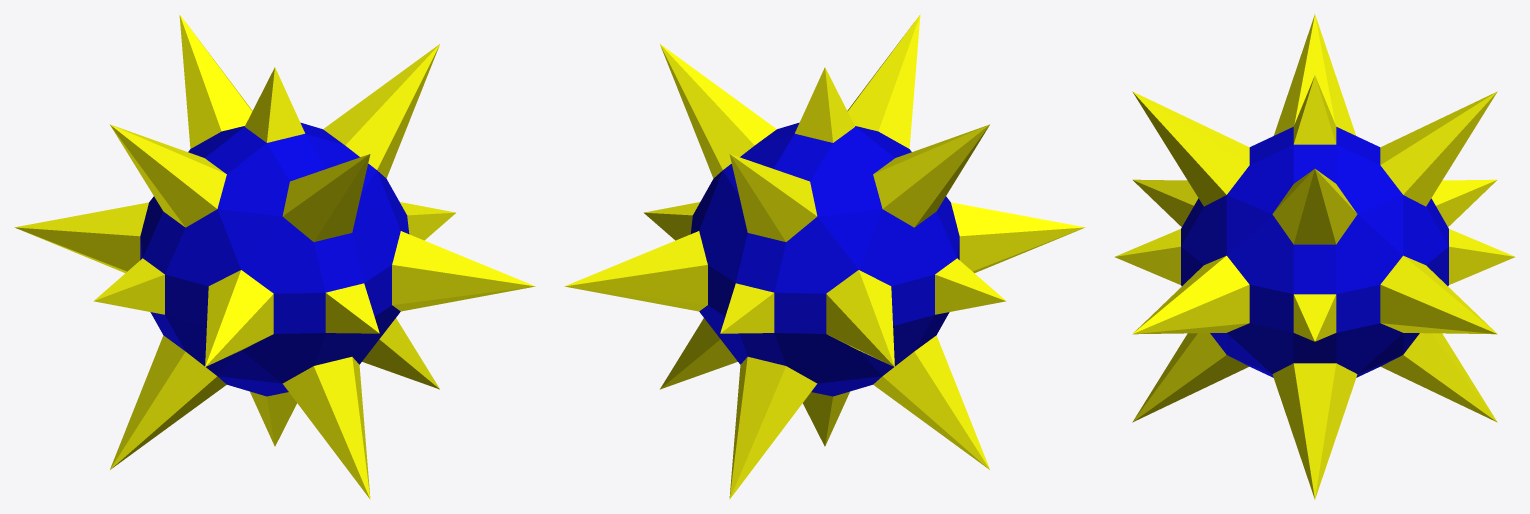
File: SPIKY_BALL.fbx
3 views of the same model, side by side, from view 1: azimuth 30°, elevation 25°; view 2: azimuth 150°, elevation 25°; view 3: azimuth 270°, elevation 25° (orthographic). The views are drawn at different scales.
Visible parts, largest first — view 1: Mesh1; view 2: Mesh1; view 3: Mesh1.
Boxes of the visible parts, x1,y1,x2,y2 form: Mesh1: (14, 14, 535, 499); Mesh1: (564, 14, 1085, 499); Mesh1: (1115, 14, 1514, 499).
Size of the model in its own units: 0.03 by 0.03 by 0.03.
